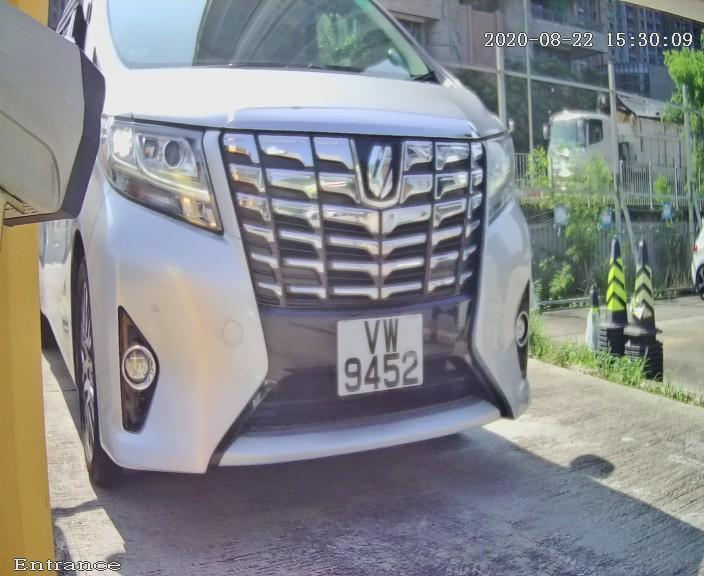License Plate: (327, 291, 434, 407)
